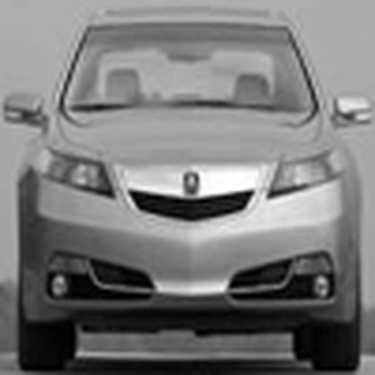car: (2, 3, 370, 372)
